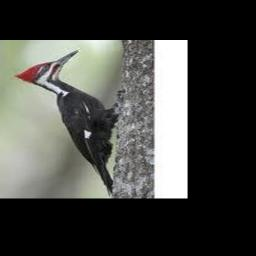Woodpecker: (13, 50, 119, 195)
